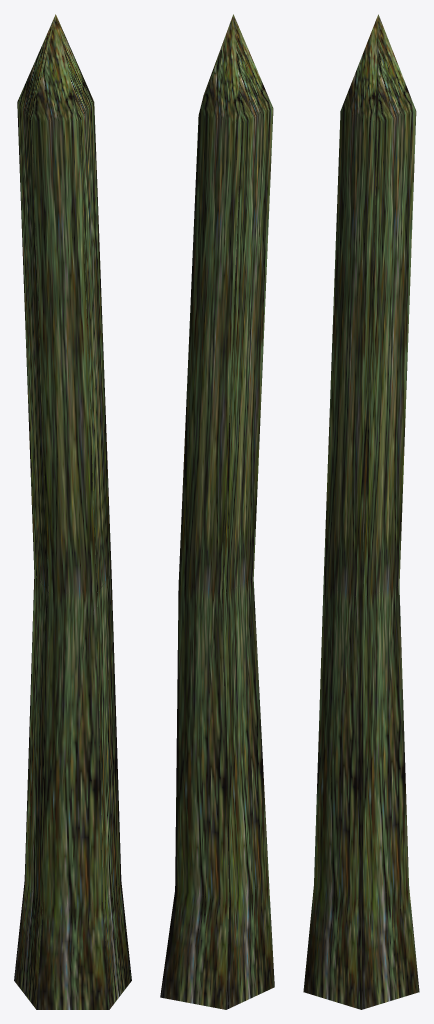
3 views of the same model, side by side, from view 1: azimuth 90°, elevation 25°; view 2: azimuth 210°, elevation 25°; view 3: azimuth 270°, elevation 25° (orthographic).
Parts seen in each view (by area): view 1: SMDImport; view 2: SMDImport; view 3: SMDImport.
Part boxes in pixels (bbox=[...]): SMDImport: bbox=[14, 14, 131, 1009]; SMDImport: bbox=[160, 14, 274, 1009]; SMDImport: bbox=[303, 14, 419, 1009].
Bounding box in the file's own units: 51.51 × 497 × 54.16.
